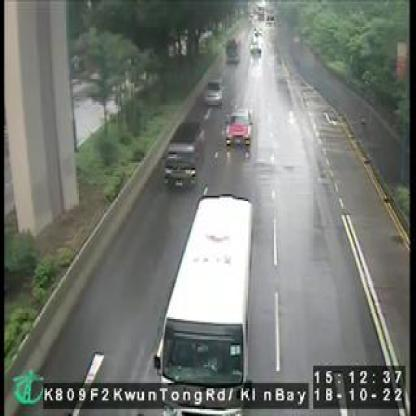Bus: (157, 196, 256, 389), (224, 33, 243, 65)
Car: (163, 120, 208, 193), (225, 109, 255, 151), (203, 74, 226, 107)
